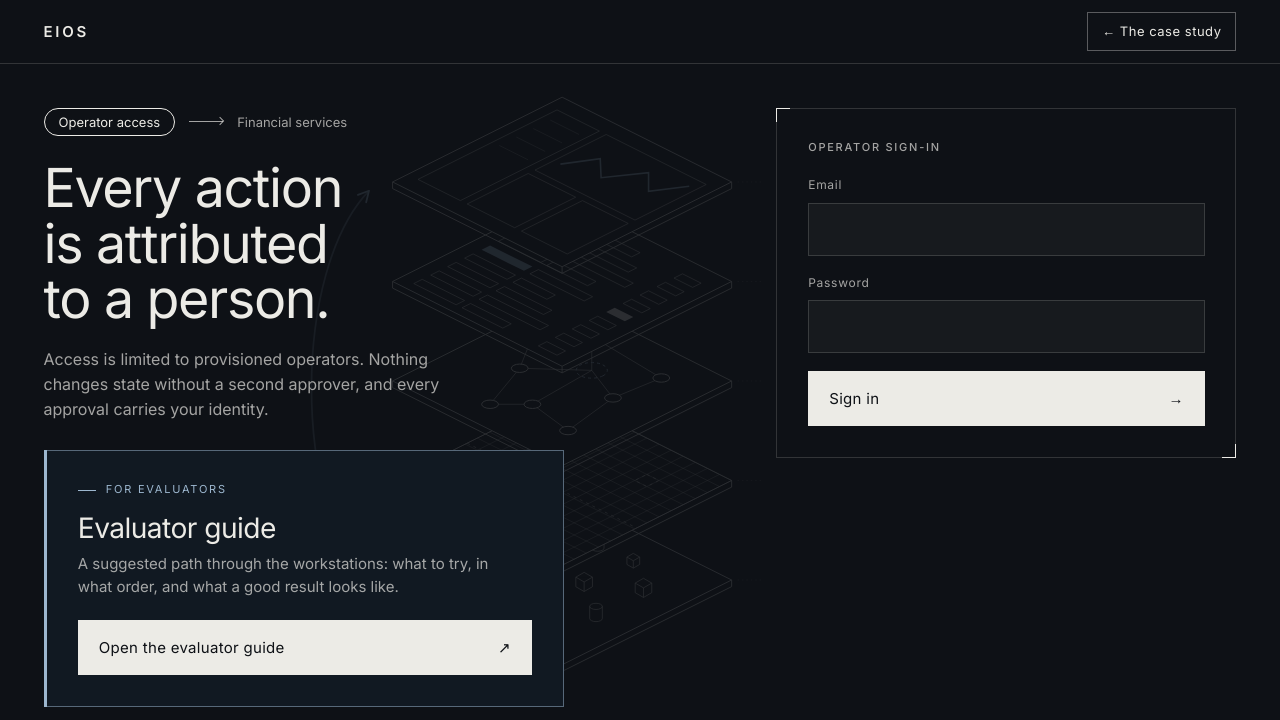
LoginPage › shows one generic error for any failed sign-in
This screenshot has width=1280, height=720.
Type "who@example.org" into the field labelled "Email" at (1006, 229), box [808, 203, 1205, 256]
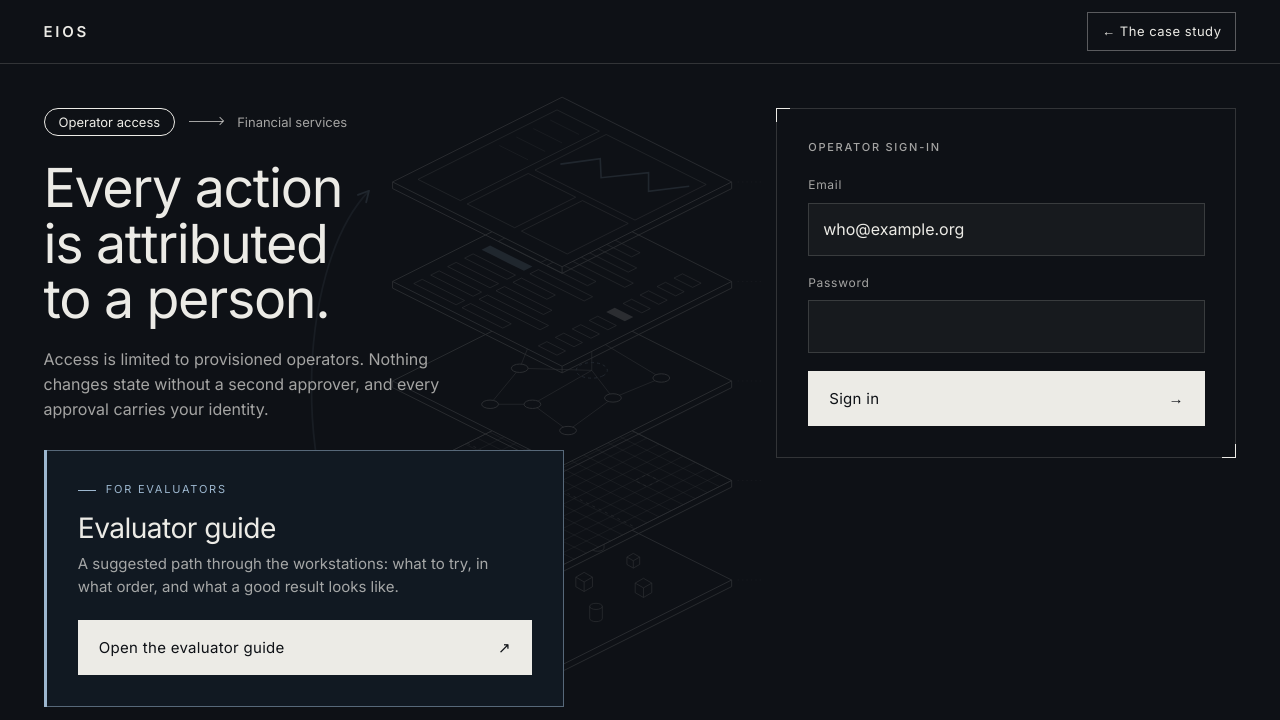
Type "wrong-password" into the password field labelled "Password" at (1006, 327), box [808, 300, 1205, 353]
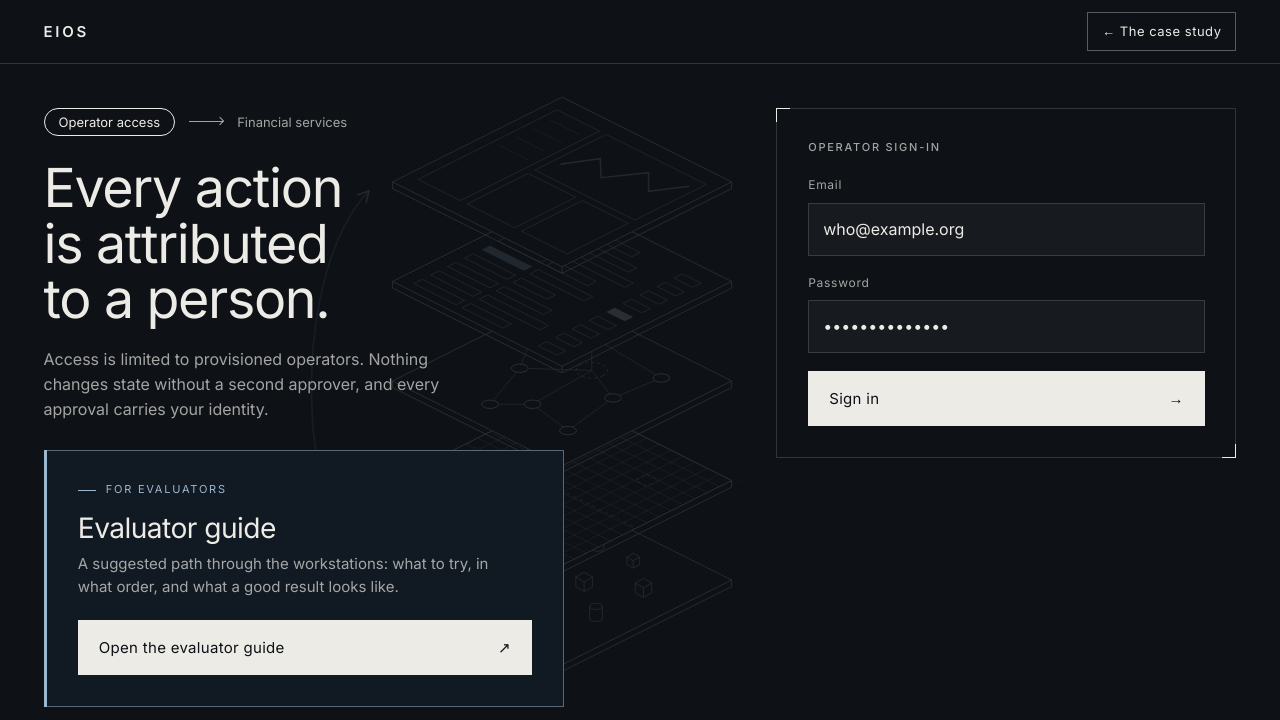
Click the button "Sign in →" at (854, 399), box [808, 371, 1205, 426]
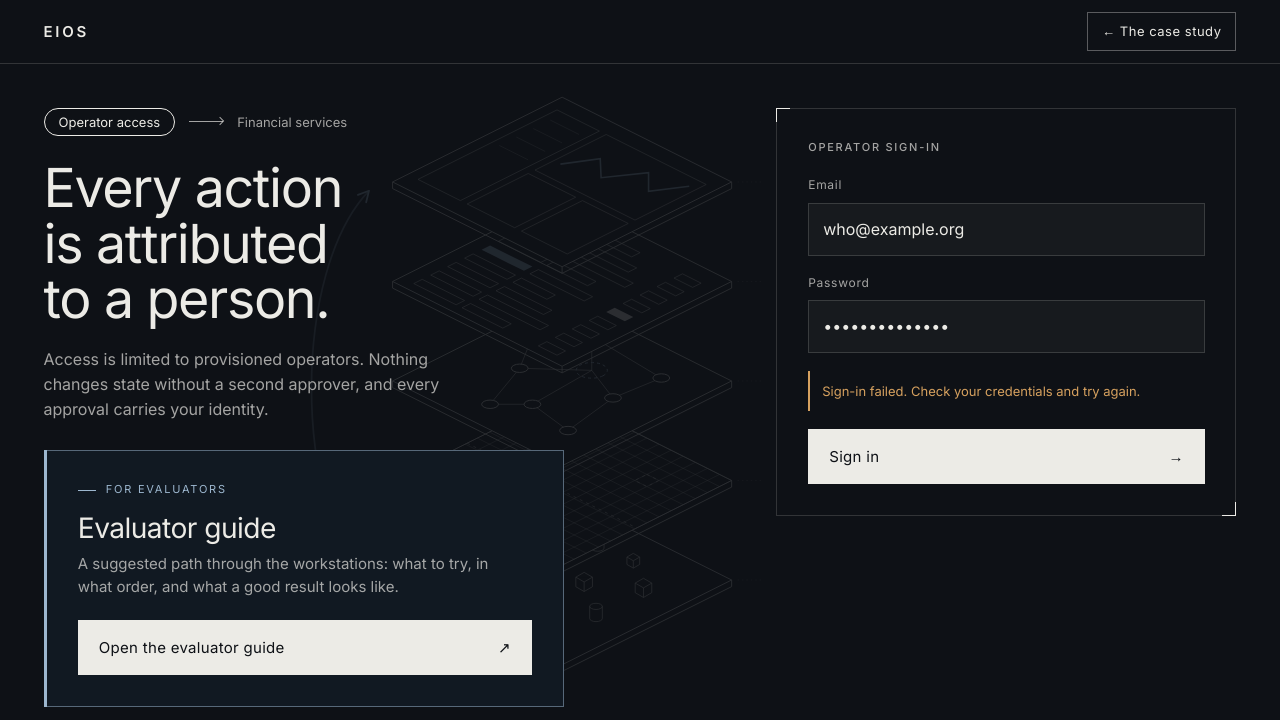
Now the message shows "Sign-in failed", box [822, 383, 1140, 399]
